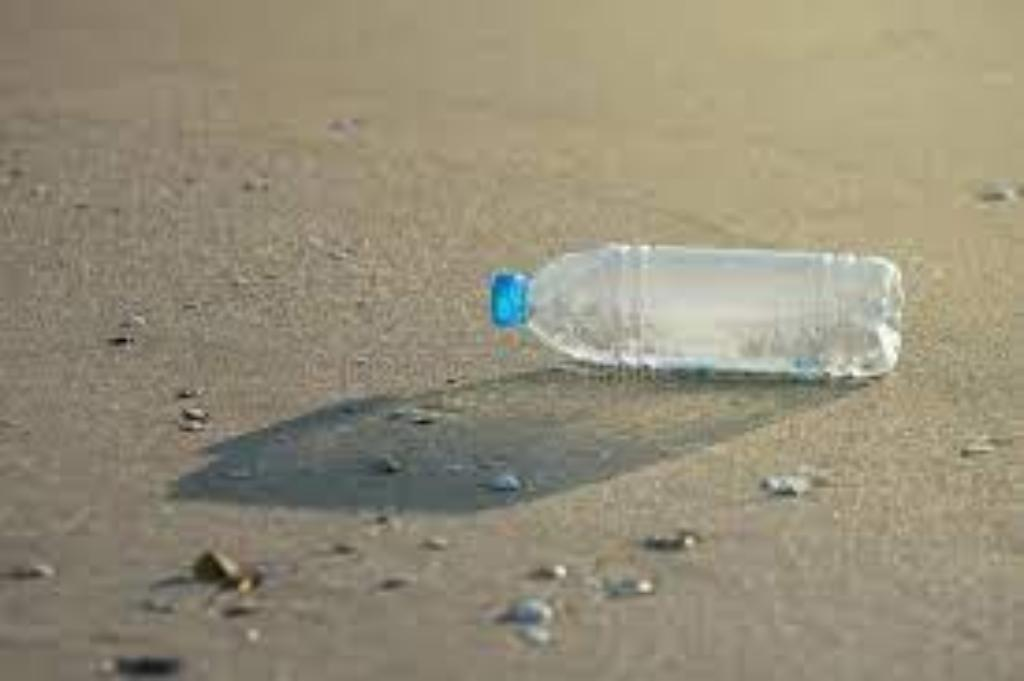garbage: (475, 225, 910, 404)
